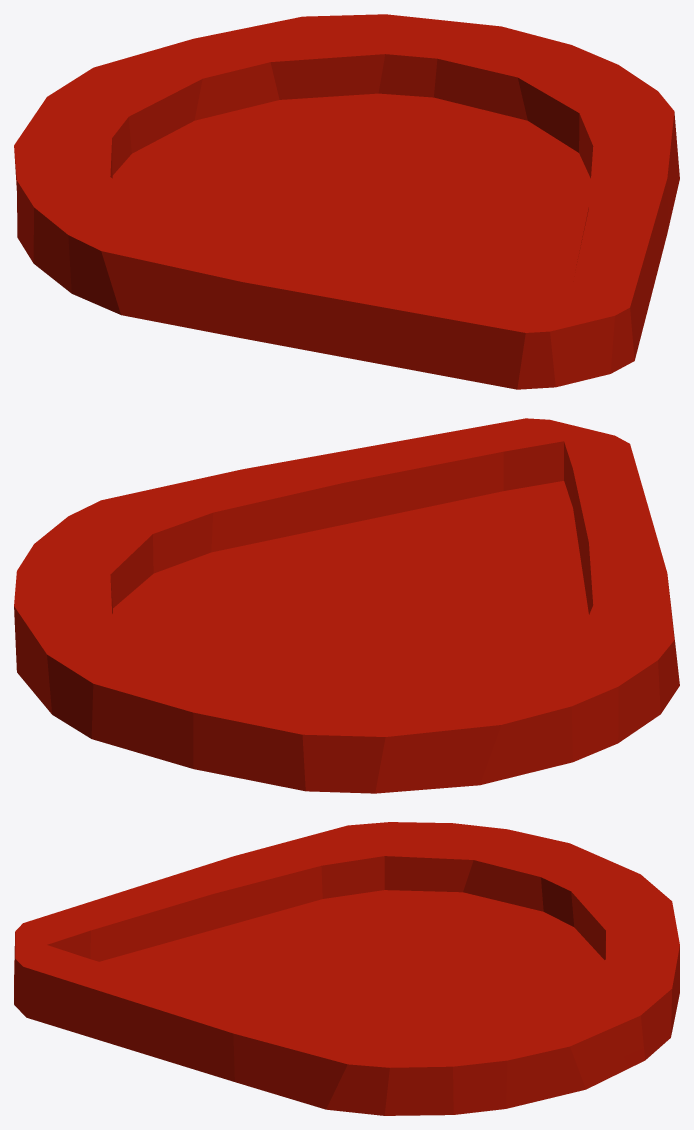
Rendered from pin.glb.
3 views of the same model, one above another, from view 1: azimuth 30°, elevation 25°; view 2: azimuth 150°, elevation 25°; view 3: azimuth 270°, elevation 25° (orthographic). The views are drawn at different scales.
Visible parts, largest first — view 1: GeoguessrPin; view 2: GeoguessrPin; view 3: GeoguessrPin.
Part boxes in pixels (x1,y1,x2,y2): GeoguessrPin: (14,14,679,389); GeoguessrPin: (14,418,679,793); GeoguessrPin: (14,822,679,1115).
Bounding box in the file's own units: 0.5458 × 0.05 × 0.6249.
